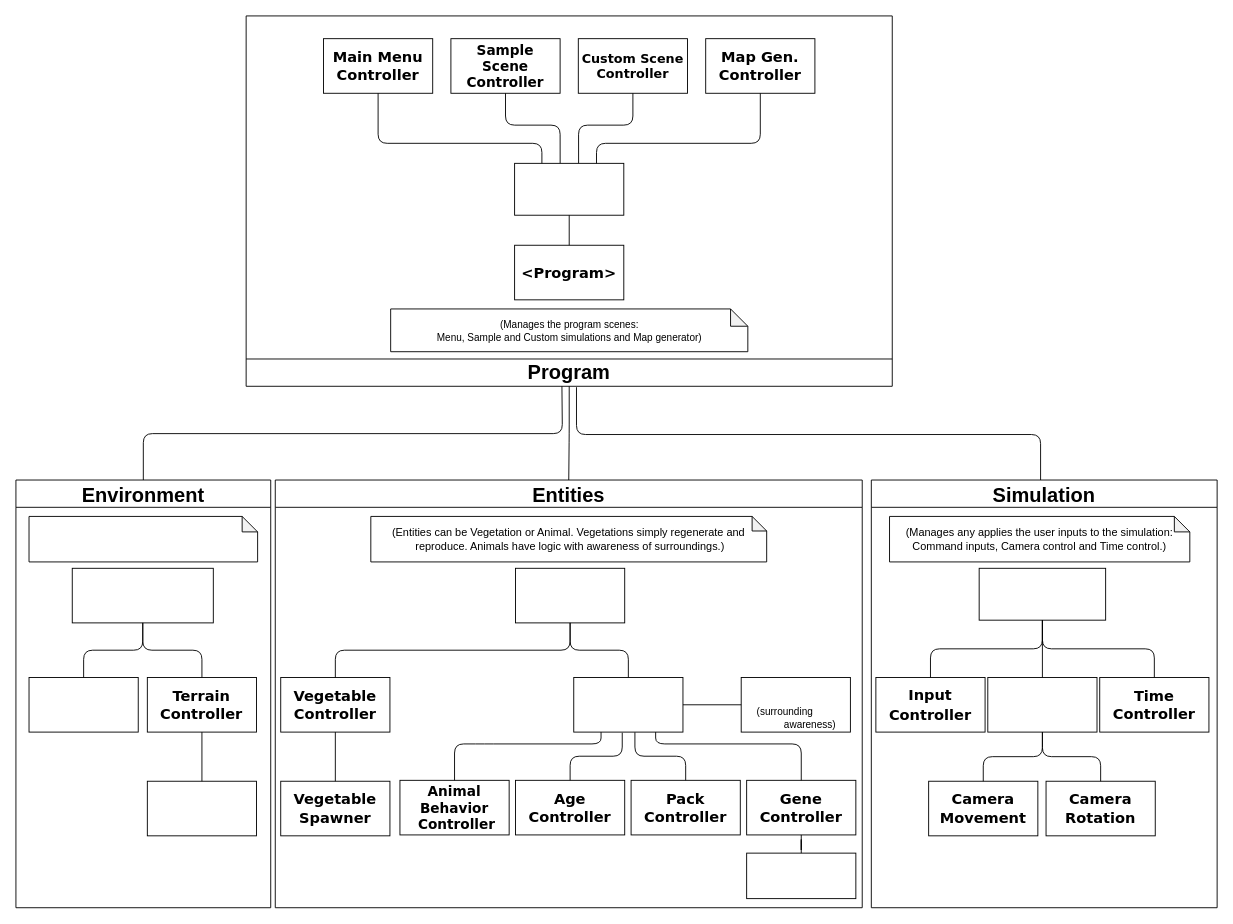
The diagram is 1233 pixels wide and 924 high, and some of its shapes have lost their labels. The shapes that lost their labels are listed below. From the top down, each one's box as (x1, y1, x2, y2) in pixels, then its label:
(514, 162, 624, 215): Scene Controller
(28, 516, 258, 562): (Manages the unmoveable water, steep mountains, and moveable terrain meshes.)
(71, 567, 213, 623): <Environment>
(515, 567, 625, 623): <Entities>
(978, 567, 1106, 620): <Simulation>
(28, 677, 138, 732): Water Controller
(573, 677, 683, 732): Animal Controller
(740, 677, 850, 732): Scanner
(987, 677, 1097, 732): Camera Controller
(146, 780, 257, 836): Terrain Generator
(746, 852, 856, 899): Gene Structure
